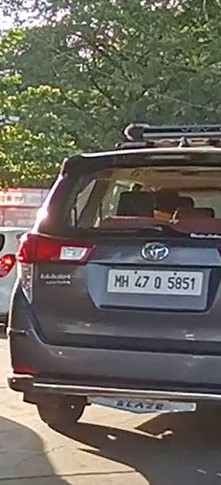MH4705851: (106, 268, 202, 296)
